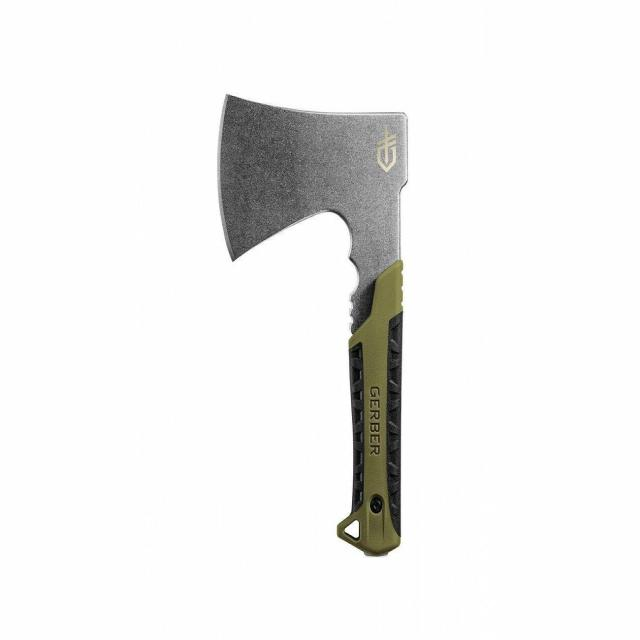Kapak: (199, 69, 443, 584)
